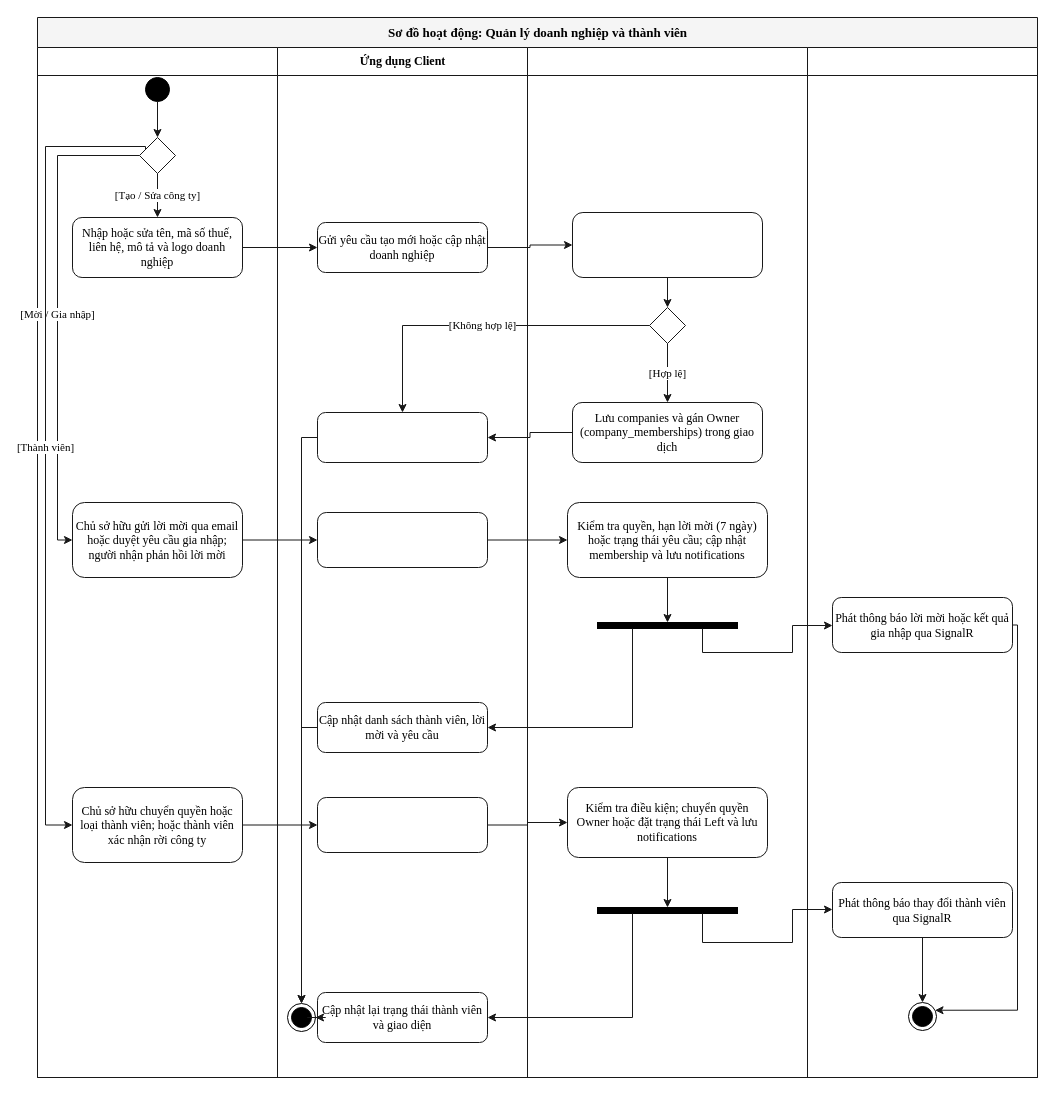
The diagram is 1055 pixels wide and 1095 high, and some of its shapes have lost their labels. Each missing label, with the box of its shape:
Cập nhật hồ sơ doanh nghiệp hoặc thông báo lỗi: (316, 412, 488, 462)
Gửi yêu cầu chuyển quyền, loại hoặc rời công ty: (316, 796, 488, 852)
Gửi yêu cầu mời, duyệt gia nhập hoặc phản hồi lời mời: (316, 512, 488, 568)
Kiểm tra MST duy nhất, tối đa 5 công ty sở hữu, quyền logo và quyền Owner: (572, 212, 762, 278)
Máy chủ & CSDL: (526, 46, 808, 1078)
Nhà tuyển dụng: (36, 46, 278, 1078)
Realtime (SignalR): (806, 46, 1038, 1078)
